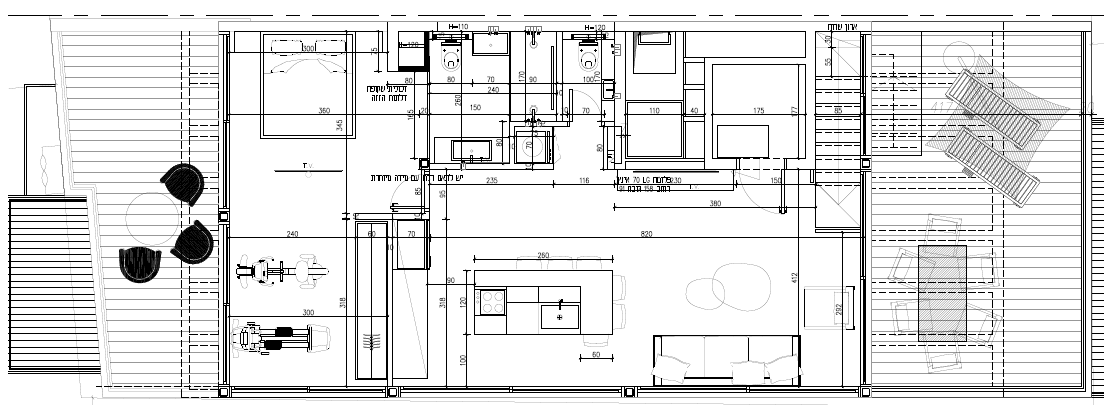window: (637, 386, 746, 392), (860, 171, 866, 279), (309, 386, 384, 393), (224, 225, 230, 305), (231, 386, 306, 392)
